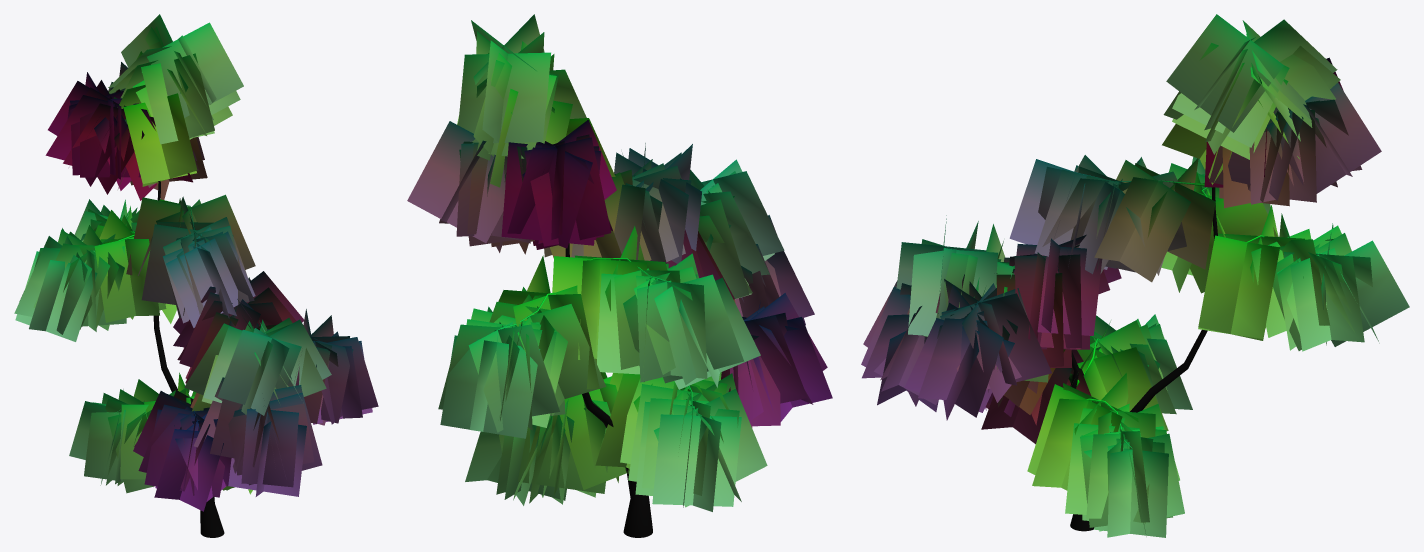
Rendered from URP_P13_Tree_7_LOD_1.fbx.
3 views of the same model, side by side, from view 1: azimuth 30°, elevation 25°; view 2: azimuth 150°, elevation 25°; view 3: azimuth 270°, elevation 25° (orthographic). The views are drawn at different scales.
Visible parts, largest first — view 1: Tree_7_LOD_1; view 2: Tree_7_LOD_1; view 3: Tree_7_LOD_1.
Part boxes in pixels (left/top/right/bottom): Tree_7_LOD_1: left=14, top=14, right=378, bottom=537; Tree_7_LOD_1: left=407, top=14, right=832, bottom=537; Tree_7_LOD_1: left=861, top=14, right=1409, bottom=537.
Bounding box in the file's own units: 414 × 700 × 661.
